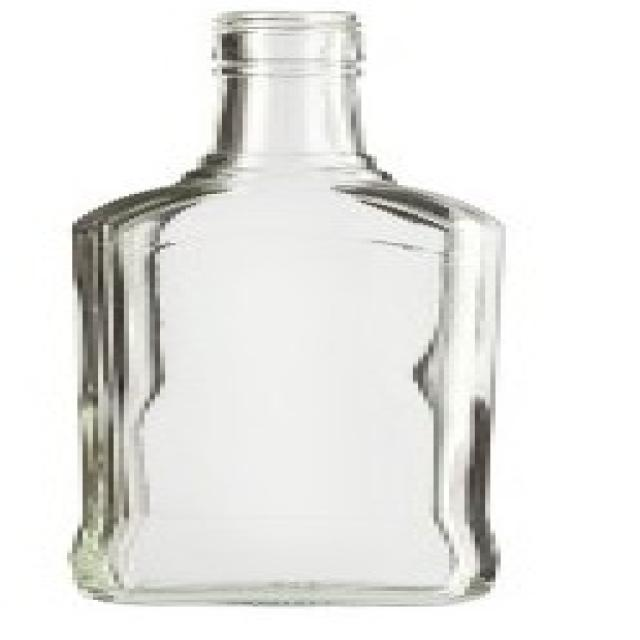electronic: (68, 6, 505, 609)
